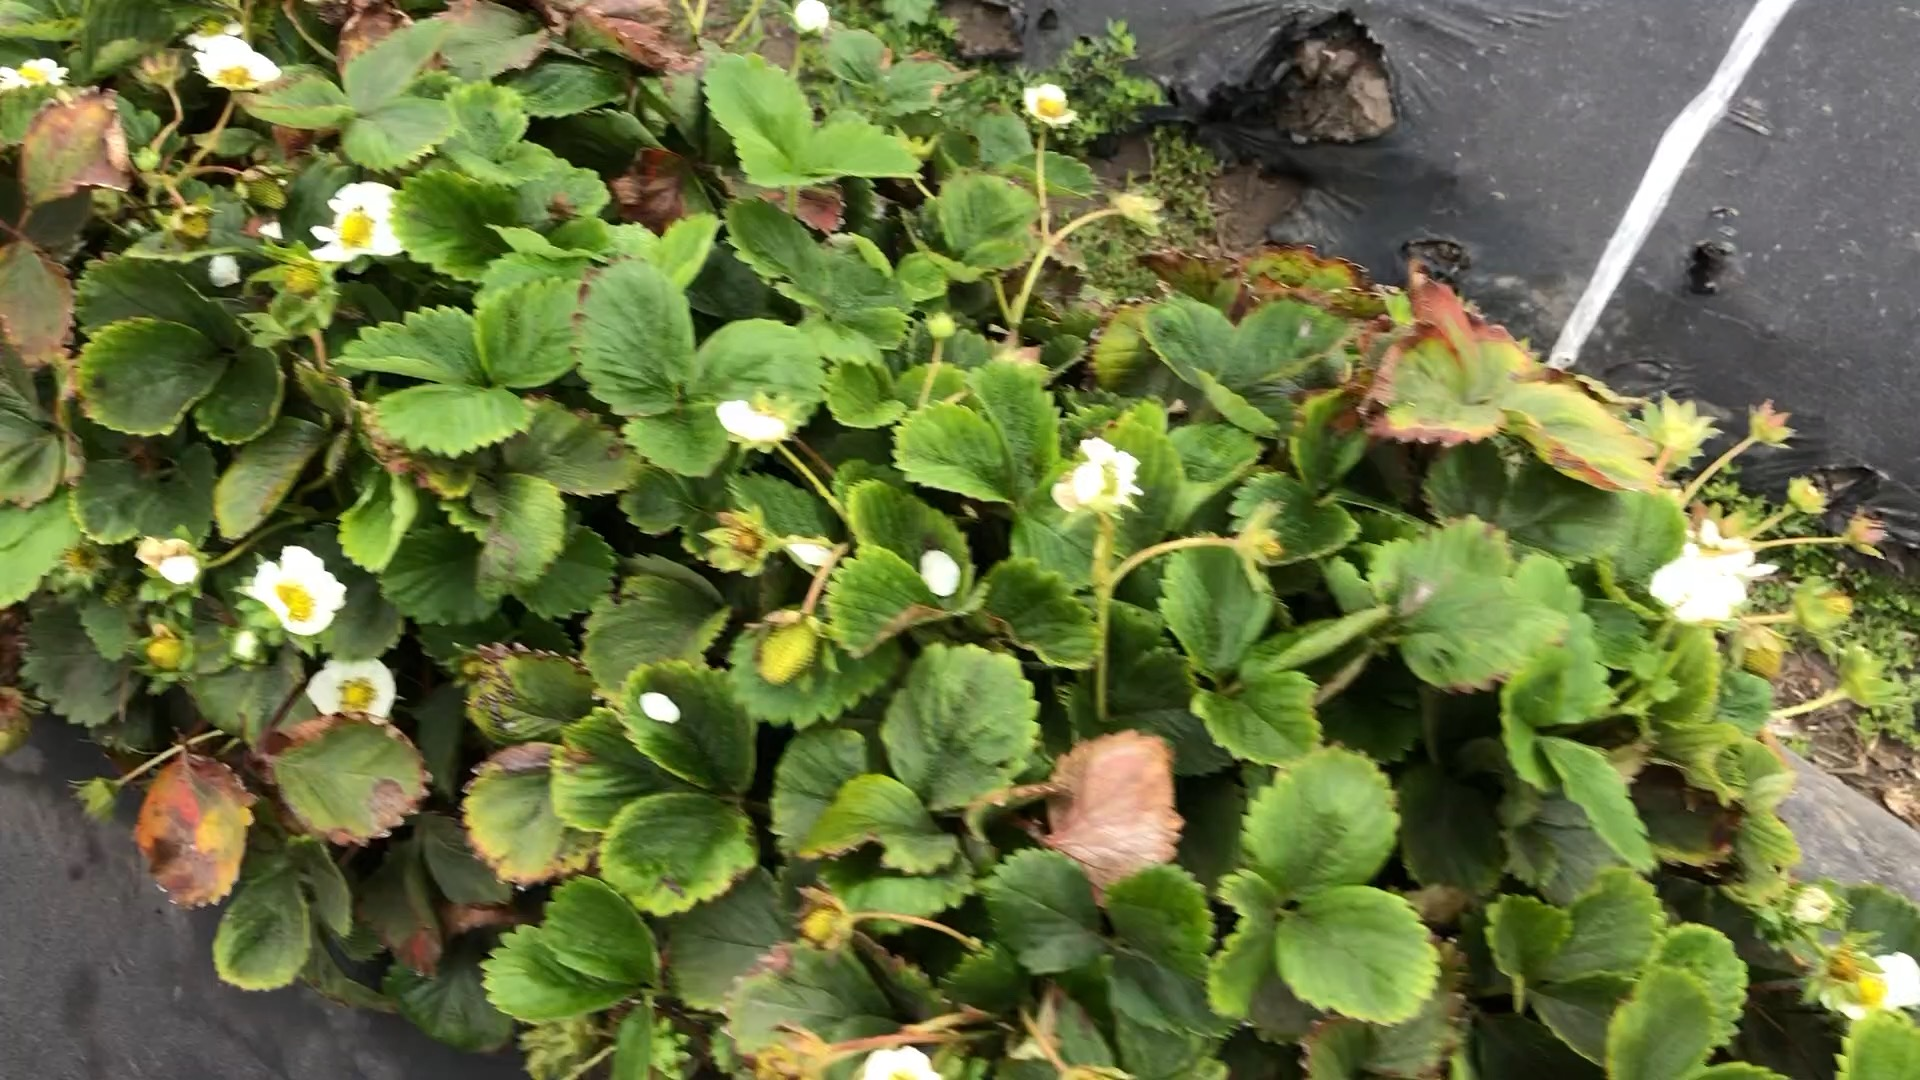unripe_strawberry: (757, 613, 824, 690)
